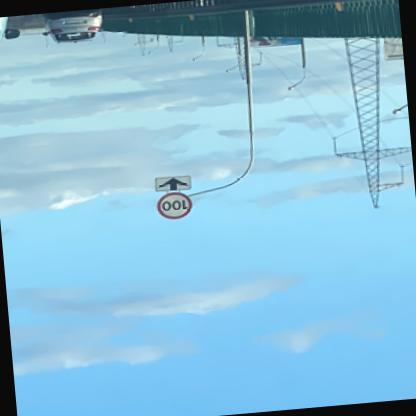speedlimit: (158, 192, 196, 223)
